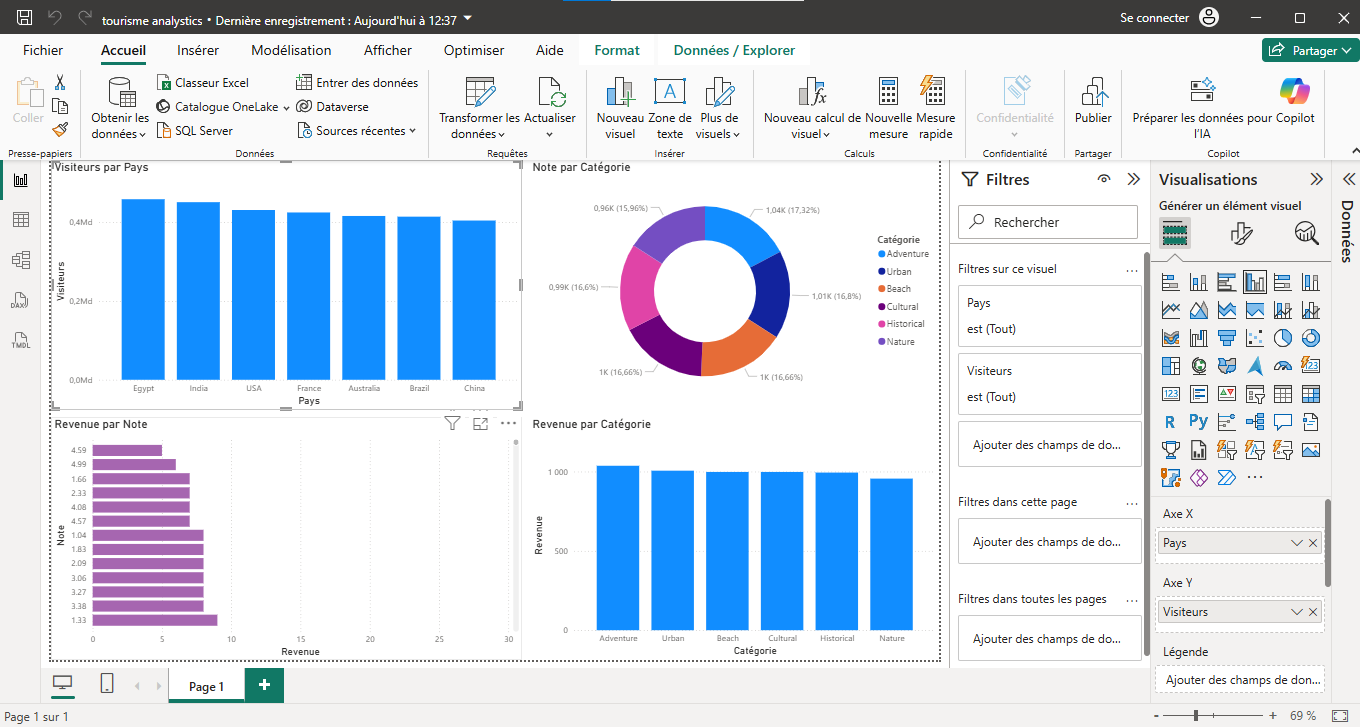

The page's visual inventory and layout, read from the dashboard file:
{"tool":"powerbi","page":{"name":"Page 1","canvas":[1280,720],"ordinal":0},"visuals":[{"type":"clusteredColumnChart","fields":{"Category":["tourism_dataset.Country"],"Y":["Sum(tourism_dataset.Visitors)"]},"box":[0,0,678.6,359.5],"z":0},{"type":"donutChart","fields":{"Category":["tourism_dataset.Category"],"Y":["CountNonNull(tourism_dataset.Rating)"]},"box":[689,0,591,359],"z":1000},{"type":"clusteredBarChart","fields":{"Category":["tourism_dataset.Rating"],"Y":["CountNonNull(tourism_dataset.Revenue)"]},"box":[0,369.6,678.6,351.1],"z":2000},{"type":"clusteredColumnChart","fields":{"Category":["tourism_dataset.Category"],"Y":["CountNonNull(tourism_dataset.Revenue)"]},"box":[689,370,591,350],"z":3000}]}

Visuals, with their boxes on the page's 1280x720 design canvas (x1, y1, x2, y2). These are canvas units, not pixel positions in the 1360x727 screenshot, which may show the page scaled, cropped or inside an application window:
clusteredColumnChart - tourism_dataset.Country x Sum(tourism_dataset.Visitors): locate(0, 0, 679, 360)
donutChart - tourism_dataset.Category x CountNonNull(tourism_dataset.Rating): locate(689, 0, 1280, 359)
clusteredBarChart - tourism_dataset.Rating x CountNonNull(tourism_dataset.Revenue): locate(0, 370, 679, 721)
clusteredColumnChart - tourism_dataset.Category x CountNonNull(tourism_dataset.Revenue): locate(689, 370, 1280, 720)
